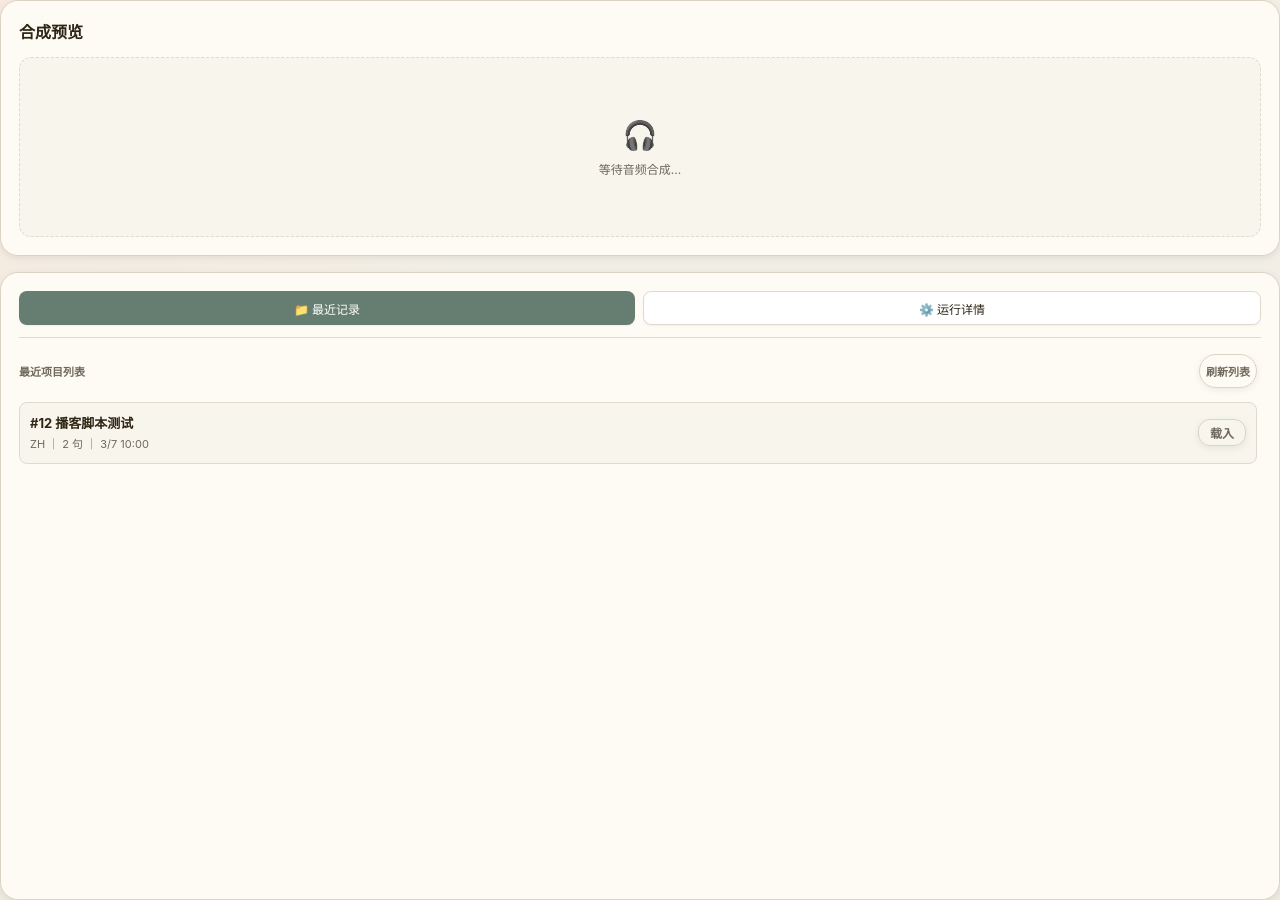
PodcastSidebar › renders recent podcasts and preview empty state
The width and height of the screenshot is (1280, 900).
expect the button "📁 最近记录" is shown: met, box [19,291,635,325]
expect the text "#12 播客脚本测试" is shown: met, box [30,415,133,431]
Note: Switch to logs tab
Click the button "⚙️ 运行详情": (952, 308) [643,291,1261,325]
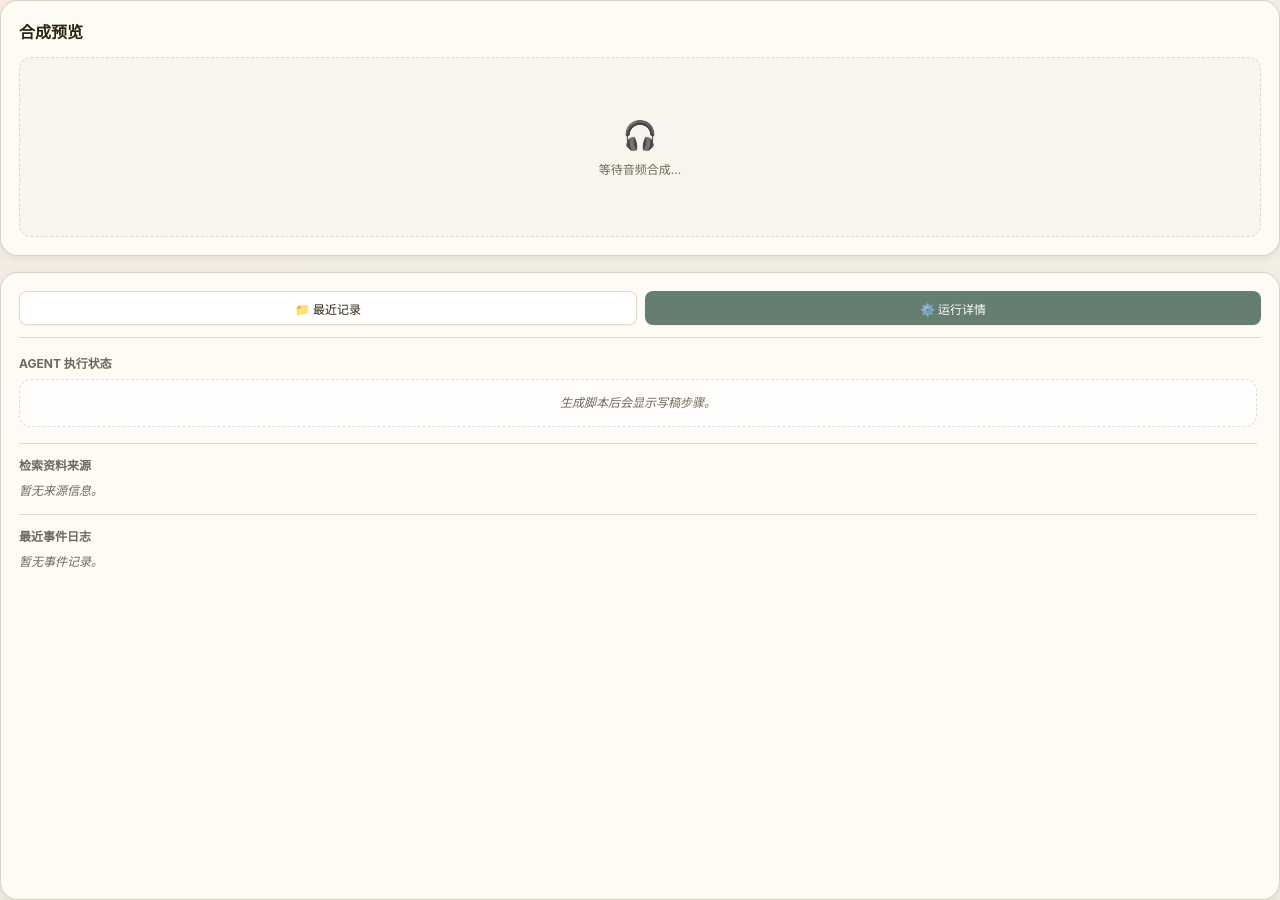
expect the heading "Agent 执行状态" is shown: met, box [19,356,112,371]
expect the heading "检索资料来源" is shown: met, box [19,458,91,473]
expect the heading "最近事件日志" is shown: met, box [19,529,91,544]
